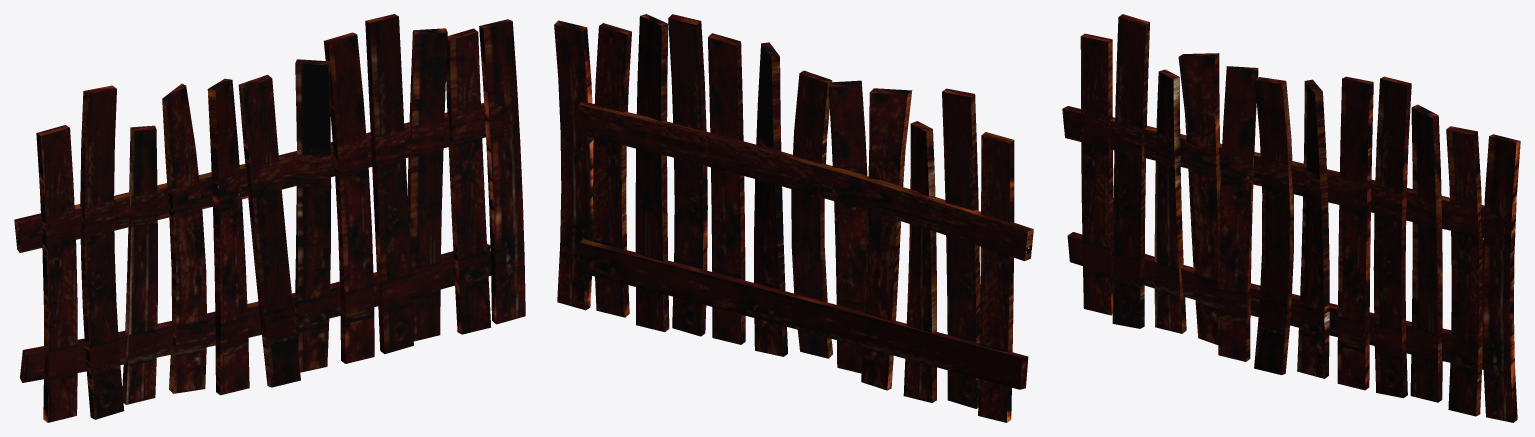
File: fence.obj
3 views of the same model, side by side, from view 1: azimuth 30°, elevation 25°; view 2: azimuth 150°, elevation 25°; view 3: azimuth 330°, elevation 25° (orthographic). The views are drawn at different scales.
Visible parts, largest first — view 1: FullFence14; view 2: FullFence14; view 3: FullFence14.
Part boxes in pixels (x1,y1,x2,y2): FullFence14: [14, 14, 525, 422]; FullFence14: [554, 14, 1033, 422]; FullFence14: [1062, 14, 1520, 422].
Bounding box in the file's own units: 12.99 × 8.19 × 1.42.
